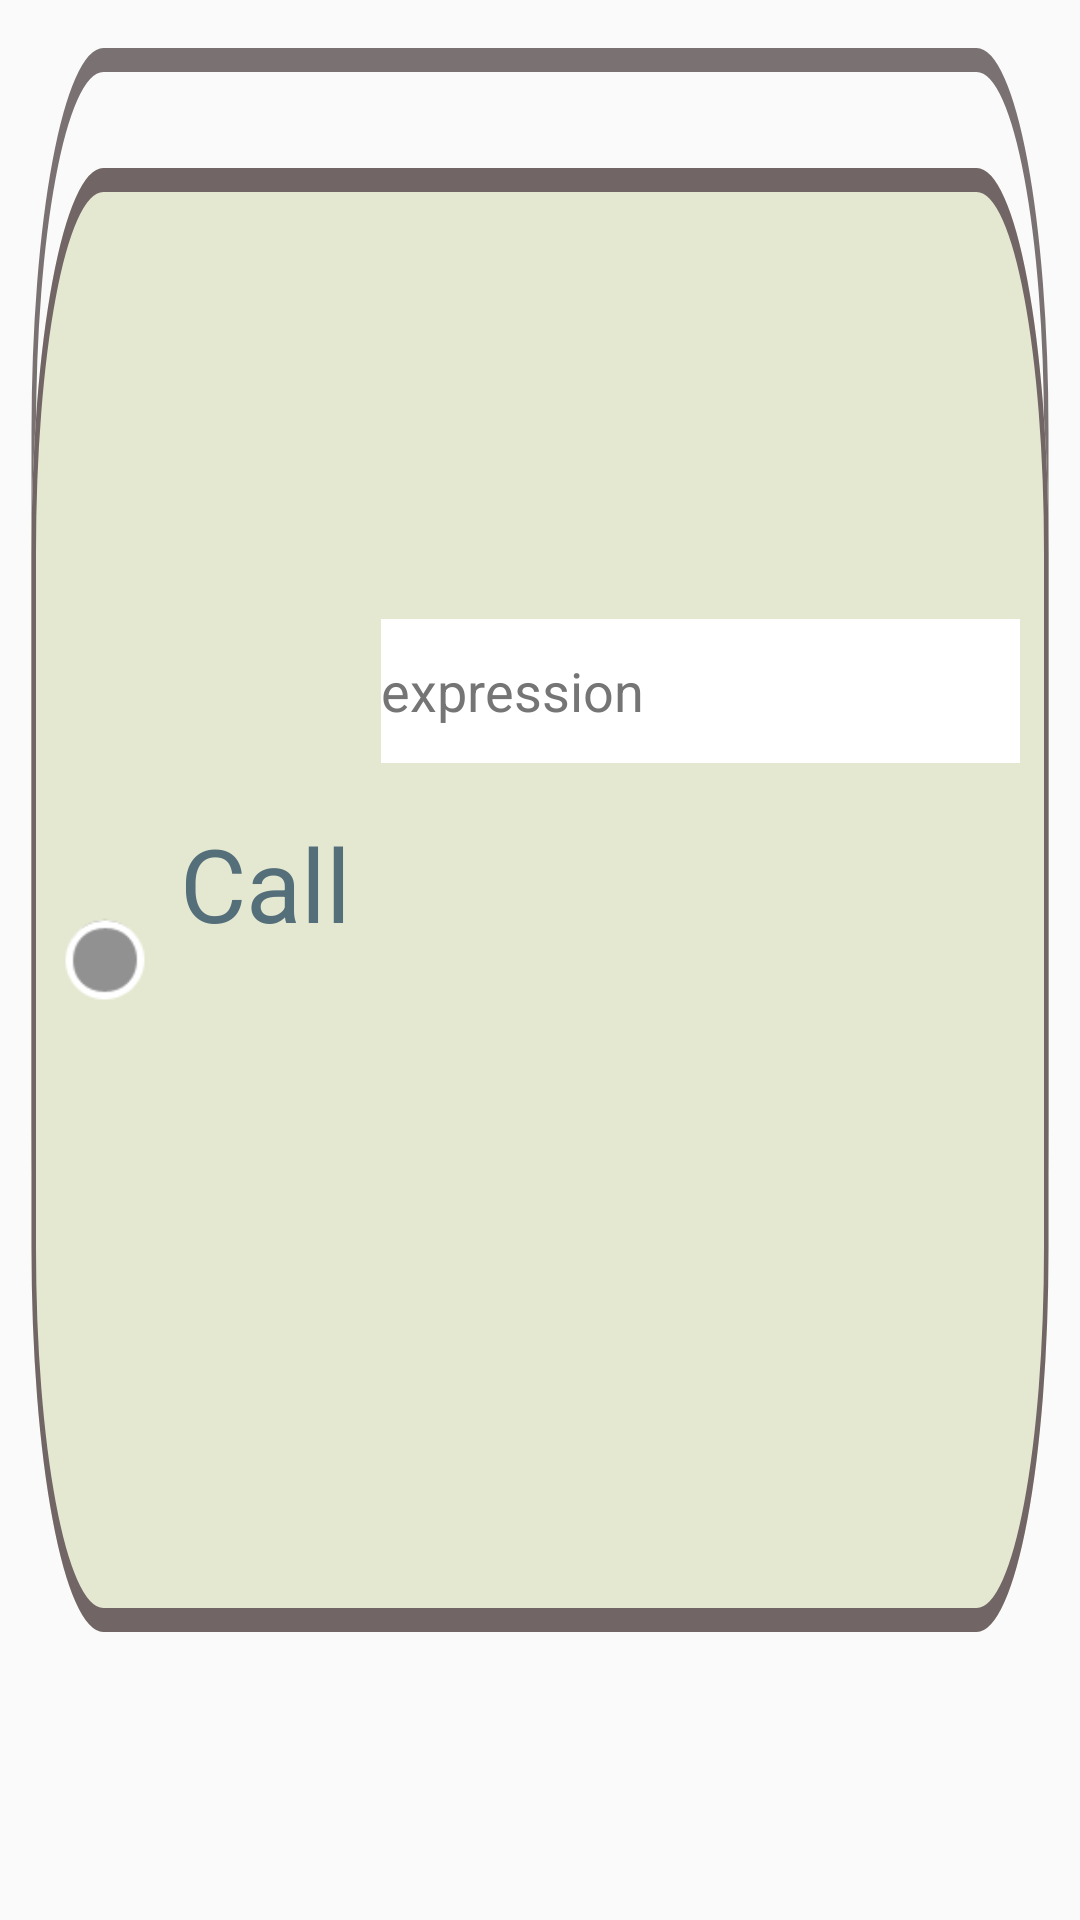

Icon bounding boxes for this 1080x1920 phone screenshot, format [x1=x1, y1=y1, x2=x2, y2=y2]:
presence invisible: [x1=66, y1=921, x2=144, y2=999]
